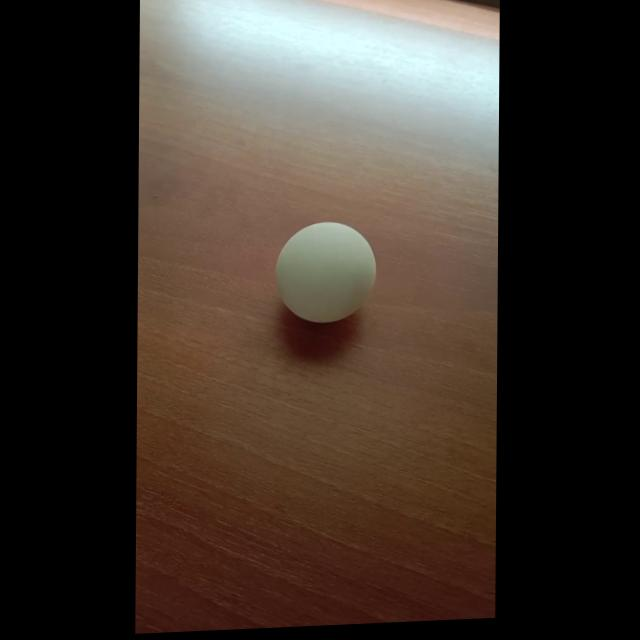white ball: (274, 218, 377, 325)
